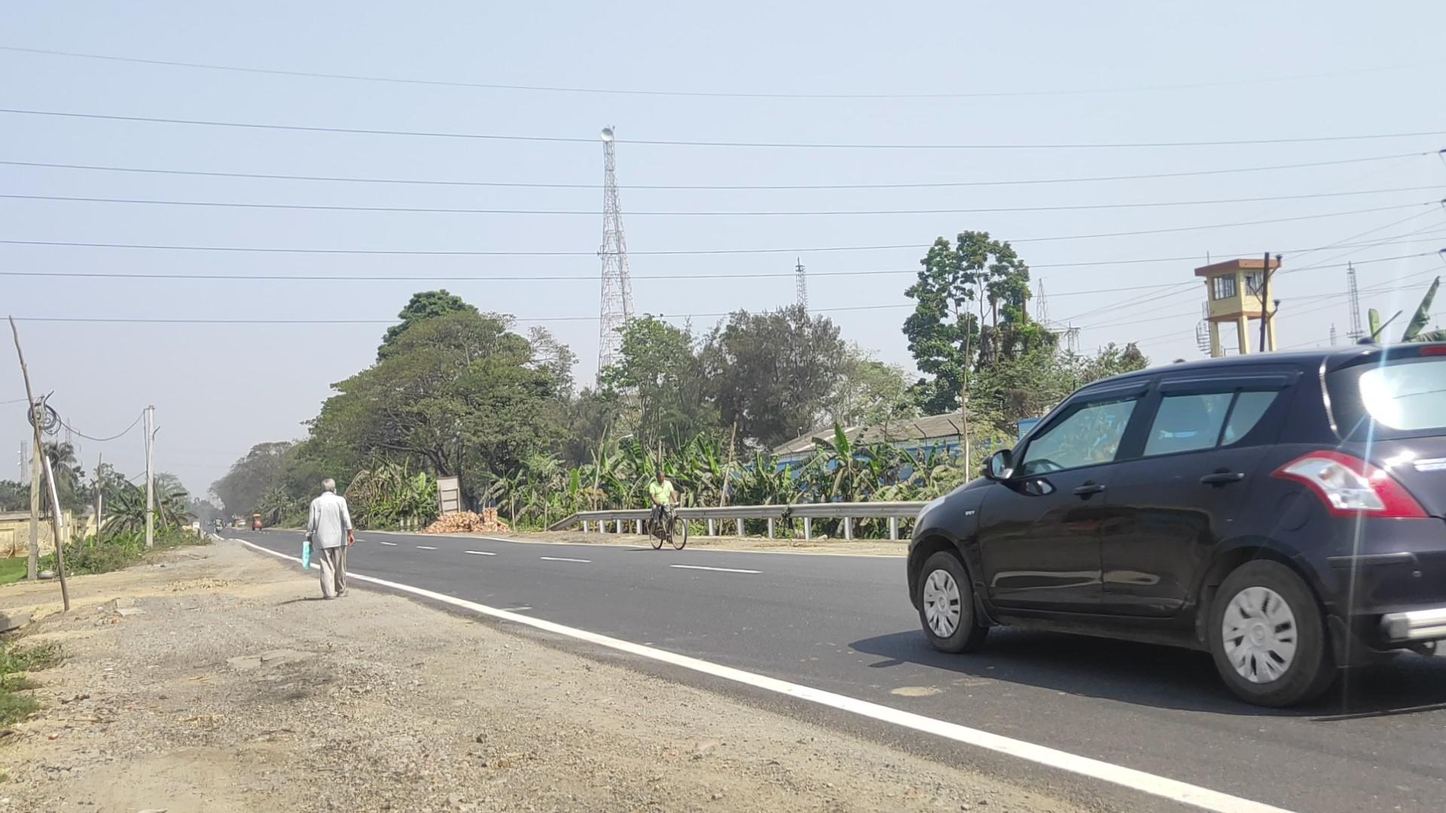bike: (648, 470, 688, 550)
car: (906, 340, 1446, 709)
